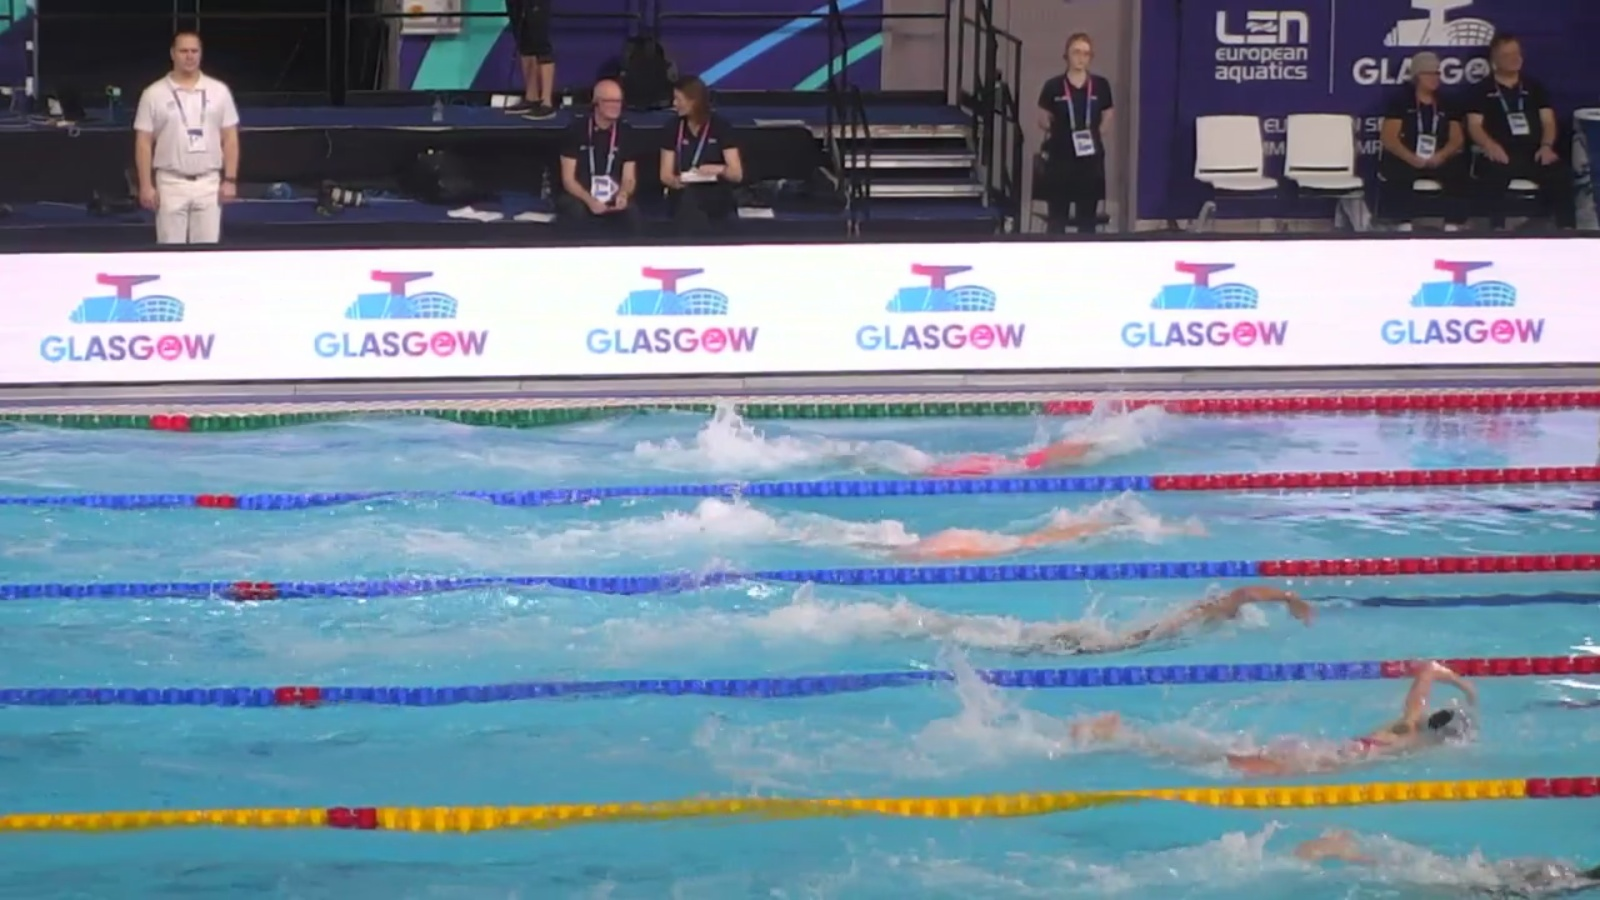swimmerw: (1062, 655, 1481, 776), (953, 581, 1325, 656), (1284, 827, 1600, 889), (873, 512, 1142, 573), (897, 431, 1158, 476)
